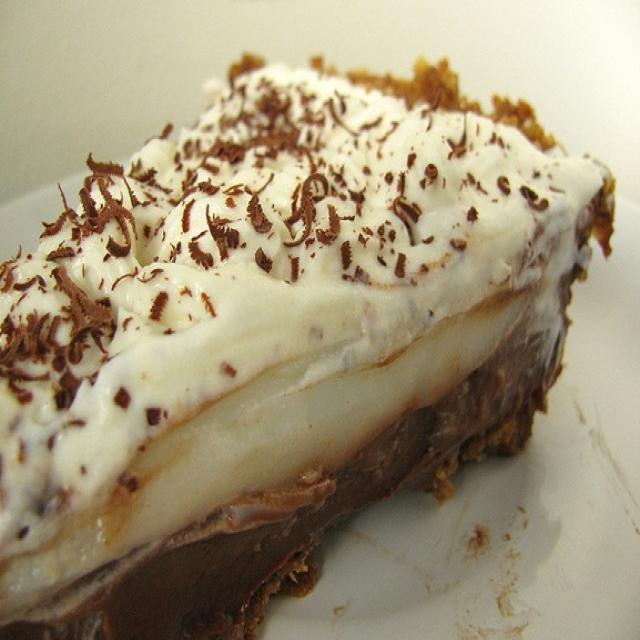蛋糕甜品: (11, 26, 599, 598)
